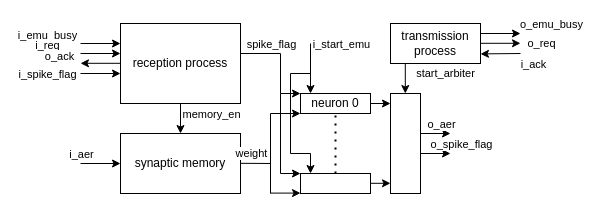
Some shapes in this 599 by 219 pixel diagram are drawn without their labels. The centre of each missing label's shape, as x and y in pixels:
"A R B I T E R" belongs at point (405, 143).
"neuron N-1" belongs at point (335, 183).
